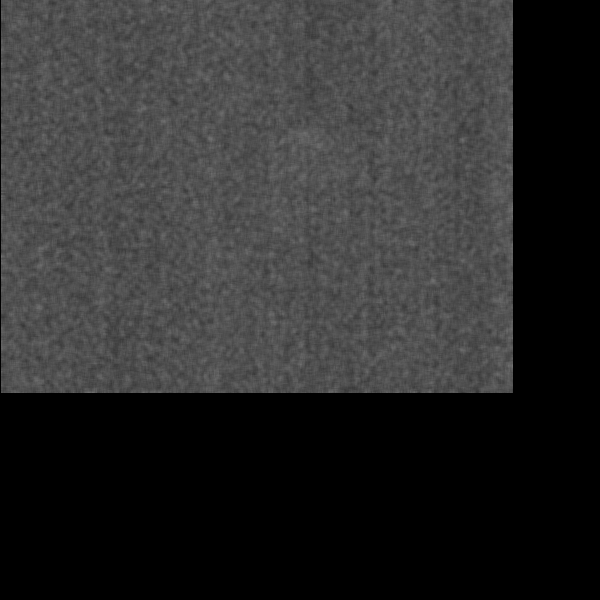spark: (33, 165, 72, 220), (17, 12, 44, 31)
